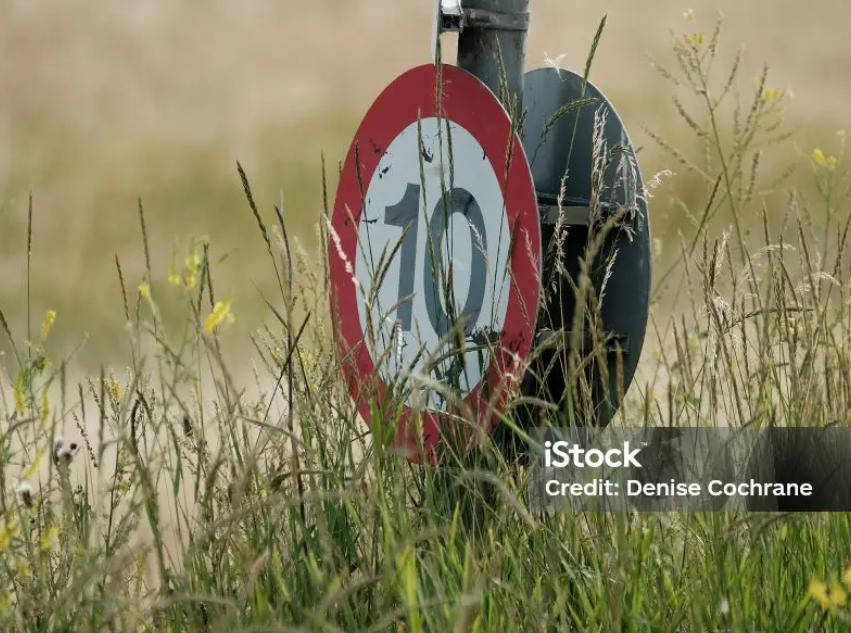obstructed_road_sign: (330, 64, 540, 466)
